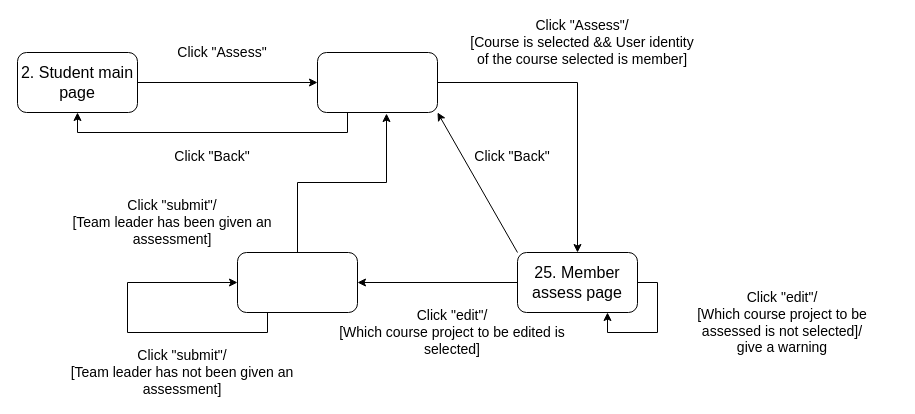
Some shapes in this 915 by 414 pixel diagram are drawn without their labels. Here are the shapes that lost their labels. From the top down, the centre of each, then its label:
At (377,82): "22. Assess page".
At (297,282): "26. Assess modal".
